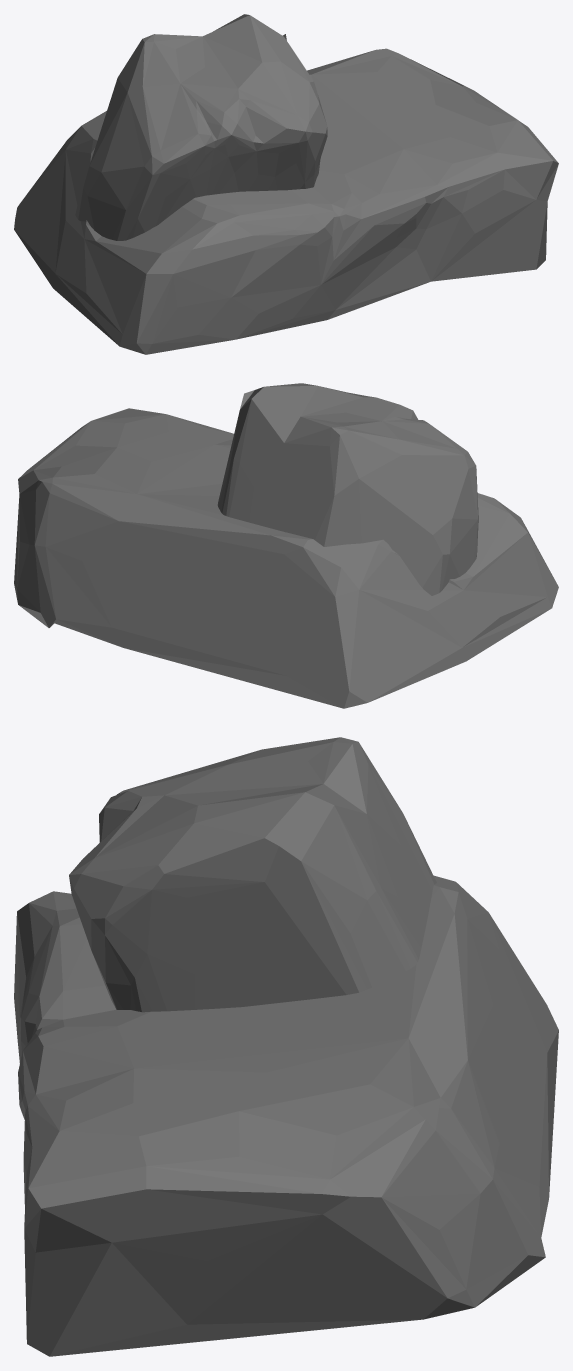
File: Rock_003.fbx
3 views of the same model, one above another, from view 1: azimuth 30°, elevation 25°; view 2: azimuth 150°, elevation 25°; view 3: azimuth 270°, elevation 25° (orthographic). The views are drawn at different scales.
Visible parts, largest first — view 1: Rock_003; view 2: Rock_003; view 3: Rock_003.
Boxes of the visible parts, box(x1,y1,x2,y2) form: Rock_003: box(14, 14, 558, 354); Rock_003: box(14, 383, 558, 708); Rock_003: box(14, 737, 558, 1356).
Size of the model in its own units: 697 by 463 by 375.
1 material, 1 textured.
